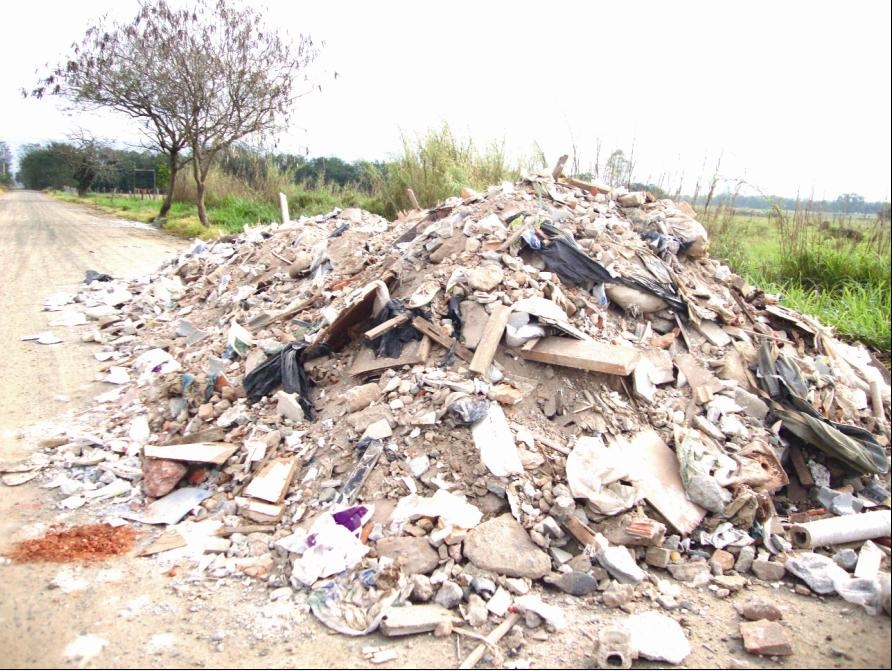rubble: (320, 173, 858, 561), (111, 207, 400, 372)
